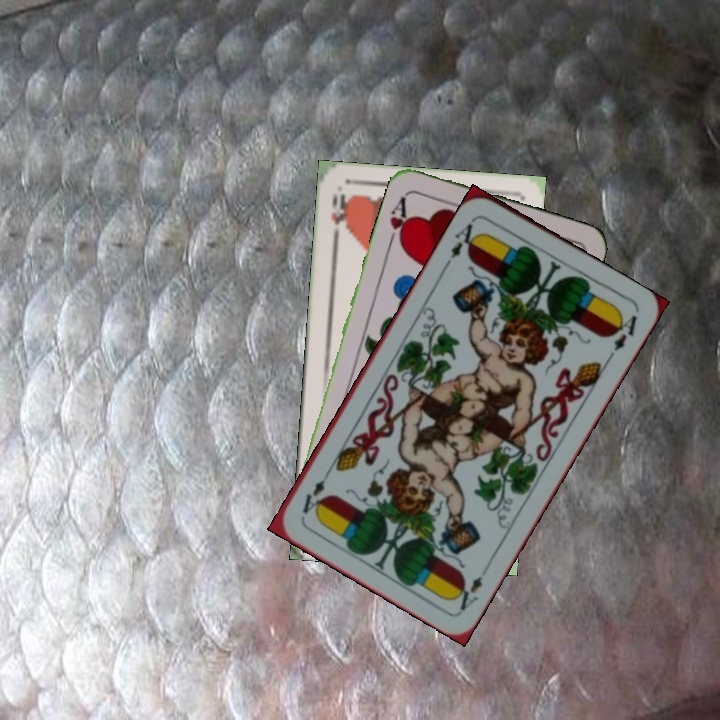EA: (446, 219, 483, 261), (451, 571, 485, 613)
HA: (384, 190, 413, 251)
HO: (326, 189, 350, 245)
